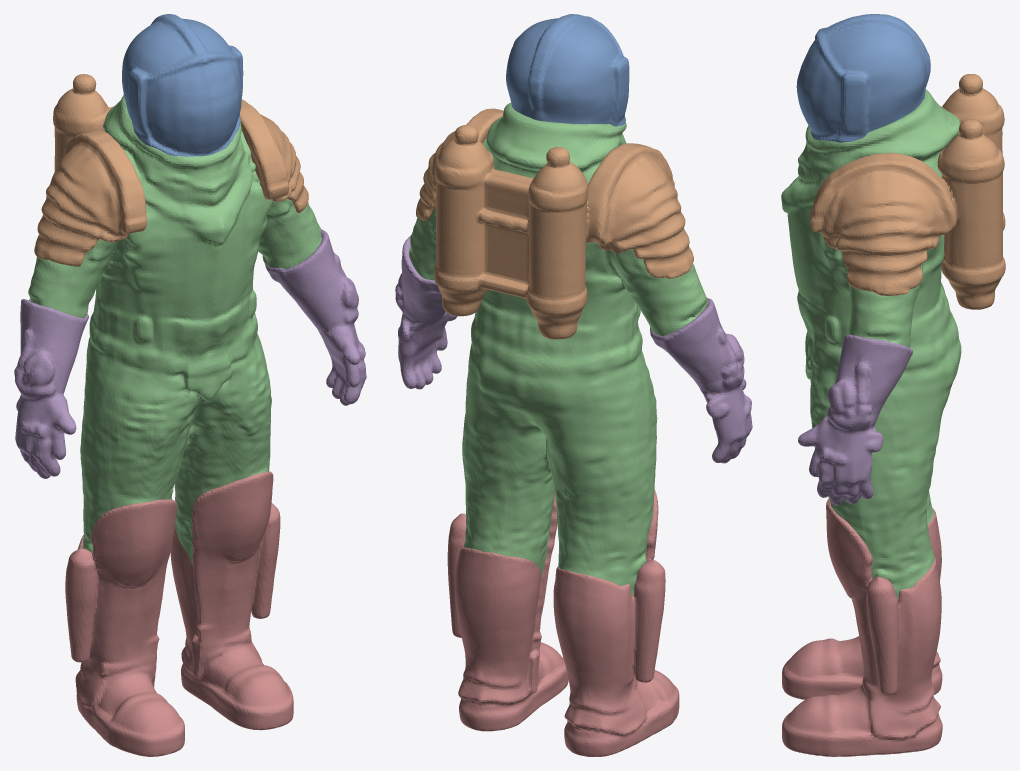
Rendered from astronaut_knight_armor_1.glb.
3 renders of one model, left to right at view 1: azimuth 30°, elevation 25°; view 2: azimuth 150°, elevation 25°; view 3: azimuth 270°, elevation 25°, orthographic.
Visible parts, largest first — view 1: Chainmail_Thermal_Layer, Rocket_Greaves, Oxygen_Tank_Pauldrons, Gauntlet_Controls, Plated_Visor_Helmet; view 2: Chainmail_Thermal_Layer, Rocket_Greaves, Oxygen_Tank_Pauldrons, Gauntlet_Controls, Plated_Visor_Helmet; view 3: Chainmail_Thermal_Layer, Oxygen_Tank_Pauldrons, Rocket_Greaves, Plated_Visor_Helmet, Gauntlet_Controls.
Part boxes in pixels (<box>): Chainmail_Thermal_Layer: <box>28,95,322,564</box>; Rocket_Greaves: <box>65,471,293,756</box>; Oxygen_Tank_Pauldrons: <box>34,74,308,266</box>; Gauntlet_Controls: <box>14,229,366,478</box>; Plated_Visor_Helmet: <box>122,14,243,156</box>; Chainmail_Thermal_Layer: <box>409,103,708,596</box>; Rocket_Greaves: <box>447,490,679,756</box>; Oxygen_Tank_Pauldrons: <box>416,108,693,339</box>; Gauntlet_Controls: <box>395,235,752,463</box>; Plated_Visor_Helmet: <box>506,14,629,126</box>; Chainmail_Thermal_Layer: <box>781,89,961,600</box>; Oxygen_Tank_Pauldrons: <box>810,74,1005,309</box>; Rocket_Greaves: <box>782,496,942,756</box>; Plated_Visor_Helmet: <box>796,14,930,142</box>; Gauntlet_Controls: <box>798,334,912,505</box>.
Bounding box in the file's own units: 0.9911 × 1.92 × 0.5582.
